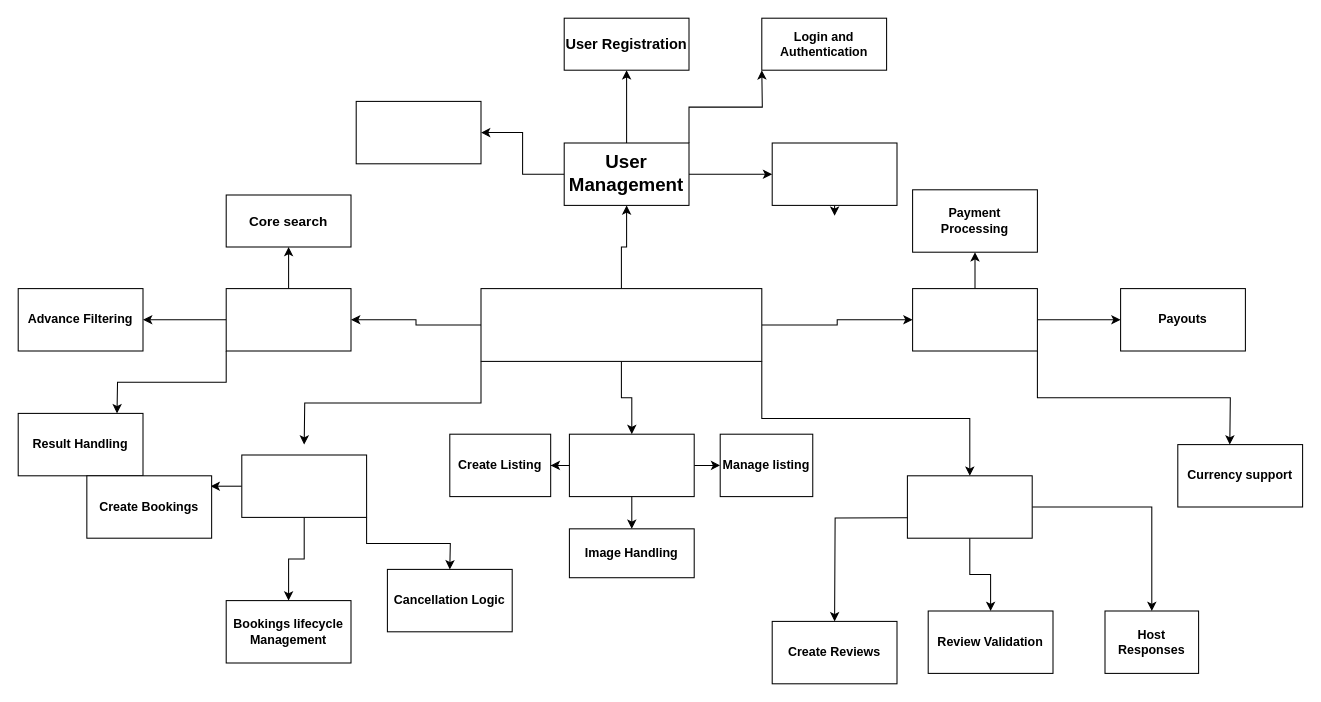
Image size: 1321x702. Some labels were removed from this diagram. Each missing label, with the centre of its shape:
"Airbnb Clone-Backend Features" goes at point 621,324.
"Authorization" goes at point 834,173.
"Booking Management System" goes at point 304,485.
"Payment Integration" goes at point 974,319.
"Profile management" goes at point 418,132.
"Property Listing management" goes at point 631,465.
"Review and Rating System" goes at point 969,506.
"Search and Filtering" goes at point 288,319.
